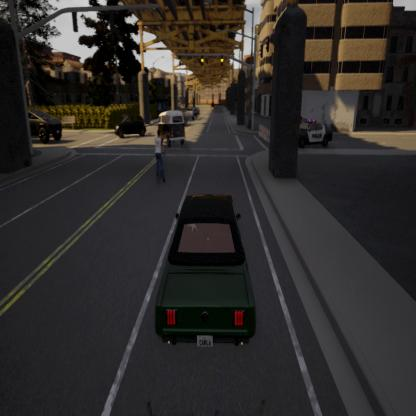Cars: (156, 195, 255, 348), (27, 108, 62, 144), (158, 112, 185, 148), (298, 119, 331, 148), (115, 115, 146, 137), (155, 131, 166, 186), (186, 104, 198, 121)
